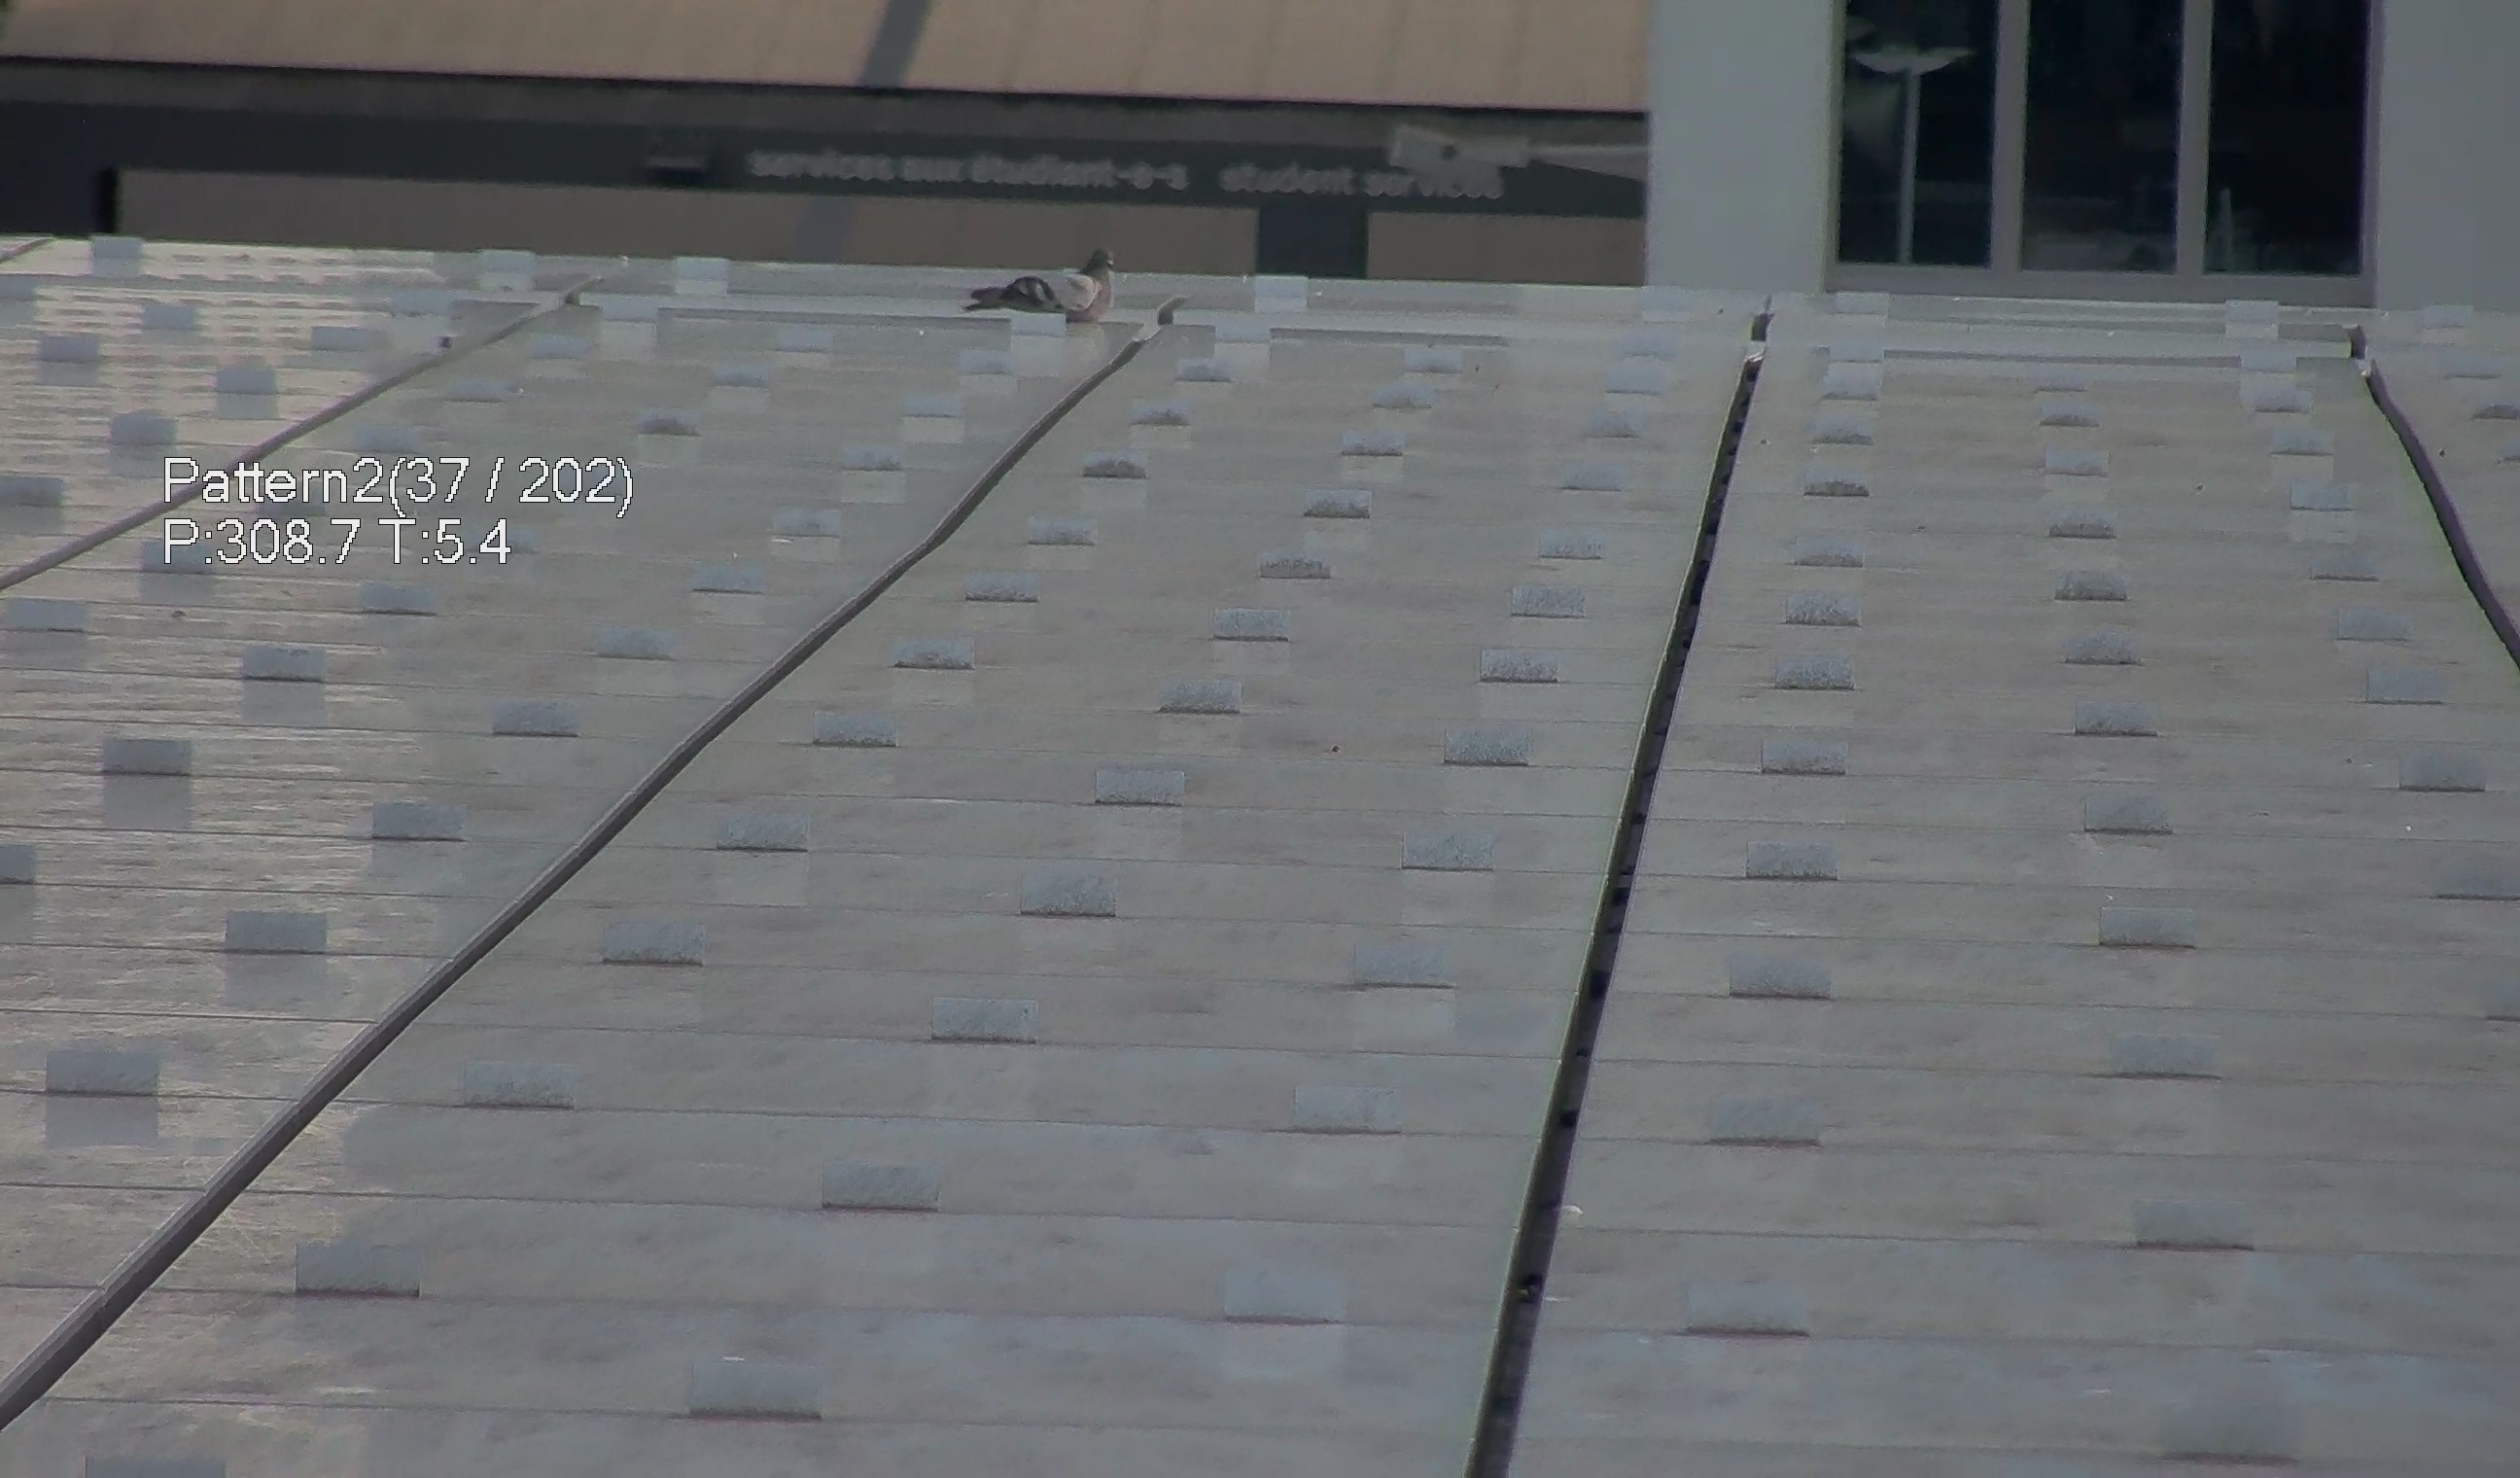Pigeon: (953, 236, 1115, 320)
